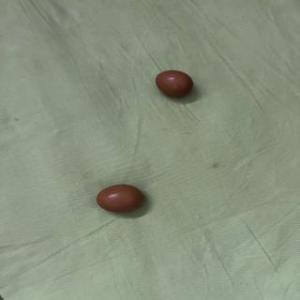egg: (94, 181, 146, 213), (154, 68, 196, 98)
